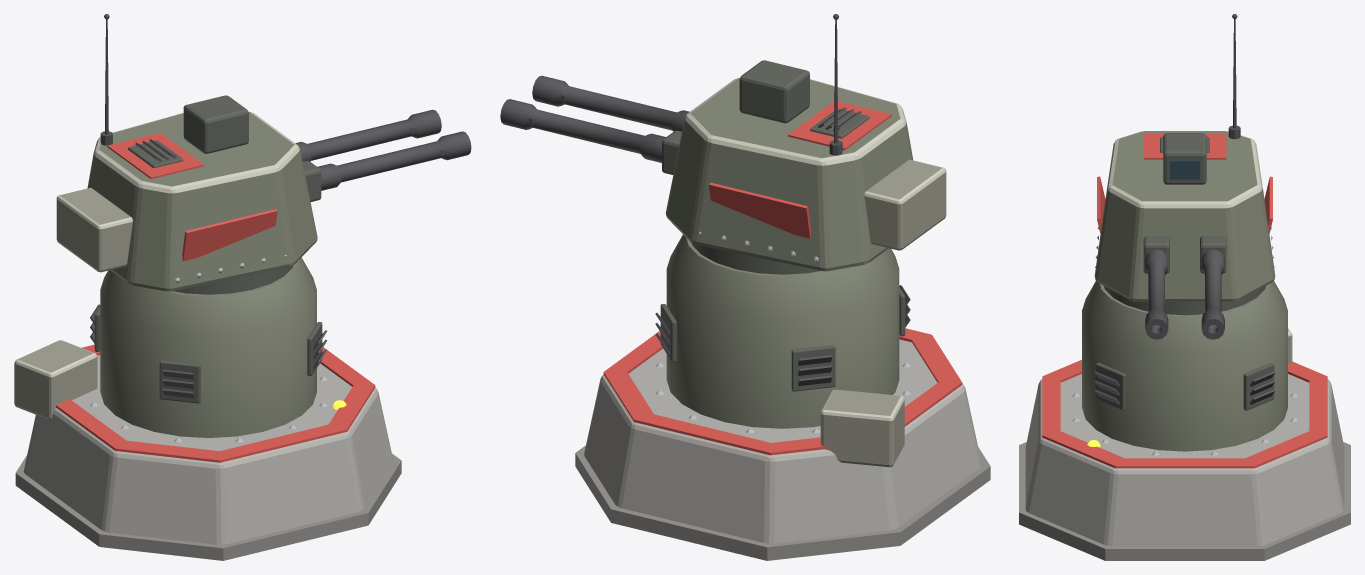
The model's file is gun_turret_red.glb.
3 views of the same model, side by side, from view 1: azimuth 30°, elevation 25°; view 2: azimuth 150°, elevation 25°; view 3: azimuth 270°, elevation 25° (orthographic). The views are drawn at different scales.
Parts seen in each view (by area): view 1: Body, Turret, Barrel; view 2: Body, Turret, Barrel; view 3: Body, Turret, Barrel.
Boxes of the visible parts, x1=… form: Body: x1=14, y1=257, x2=401, y2=560; Turret: x1=56, y1=14, x2=321, y2=294; Barrel: x1=295, y1=109, x2=471, y2=190; Body: x1=575, y1=235, x2=990, y2=560; Turret: x1=662, y1=14, x2=946, y2=274; Barrel: x1=500, y1=75, x2=689, y2=162; Body: x1=1019, y1=281, x2=1350, y2=560; Turret: x1=1094, y1=14, x2=1275, y2=315; Barrel: x1=1145, y1=249, x2=1224, y2=339.
Bounding box in the file's own units: 2.6 × 2.94 × 2.
1 material, 1 textured.
